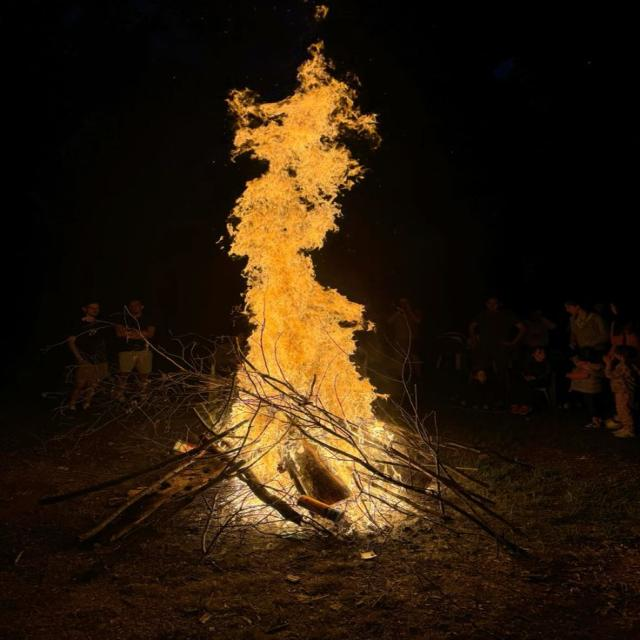fire: (220, 41, 412, 532)
